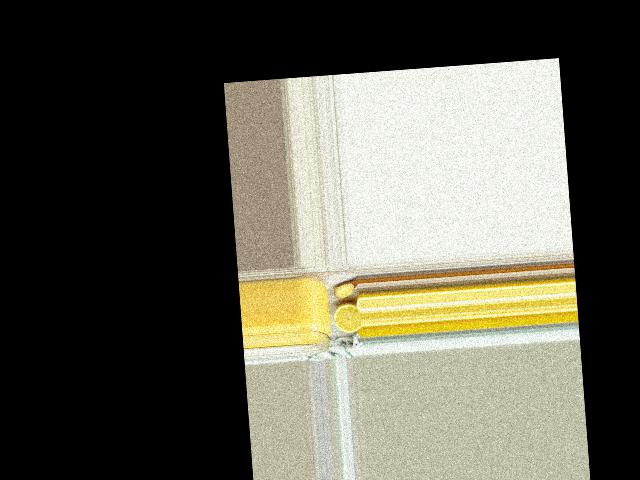lemon: (333, 302, 360, 334)
